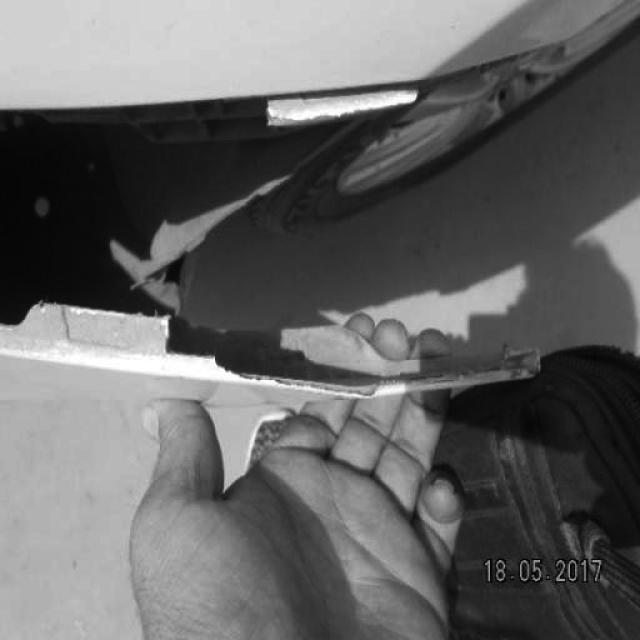car damage: (0, 49, 544, 396)
